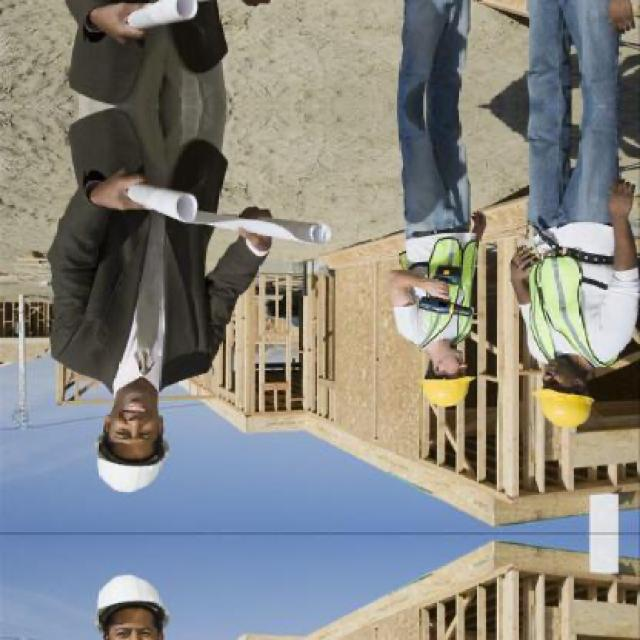con casco: (394, 317, 499, 410), (81, 414, 199, 487), (516, 346, 601, 422)
